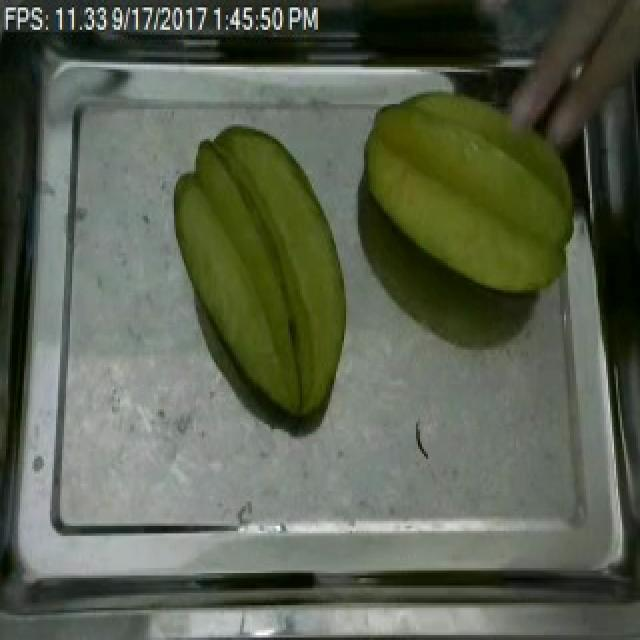fruit: (168, 114, 362, 437), (348, 82, 588, 312)
